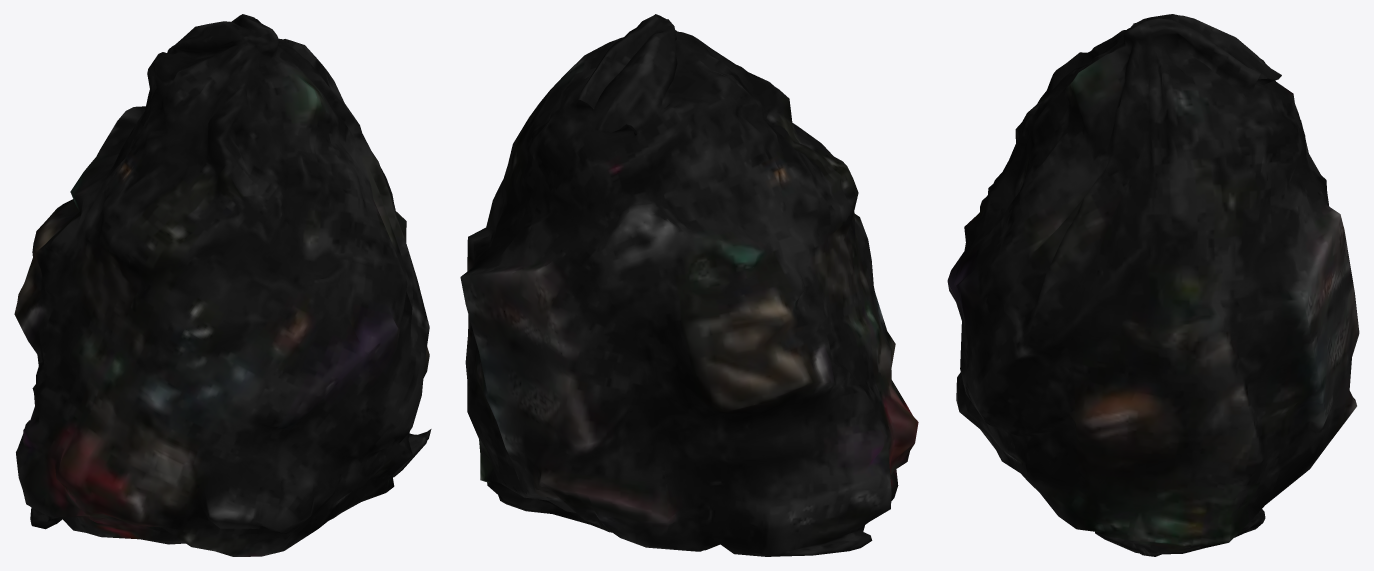
The model's file is trashbag.glb.
3 renders of one model, left to right at view 1: azimuth 30°, elevation 25°; view 2: azimuth 150°, elevation 25°; view 3: azimuth 270°, elevation 25°, orthographic. The views are drawn at different scales.
Visible parts, largest first — view 1: trashbag; view 2: trashbag; view 3: trashbag.
Boxes of the visible parts, left/top/right/bottom form: trashbag: left=14, top=14, right=431, bottom=556; trashbag: left=460, top=14, right=918, bottom=556; trashbag: left=947, top=14, right=1359, bottom=556.
Bounding box in the file's own units: 0.5281 × 0.575 × 0.4629.
Materials: 1 (1 with a texture image).
